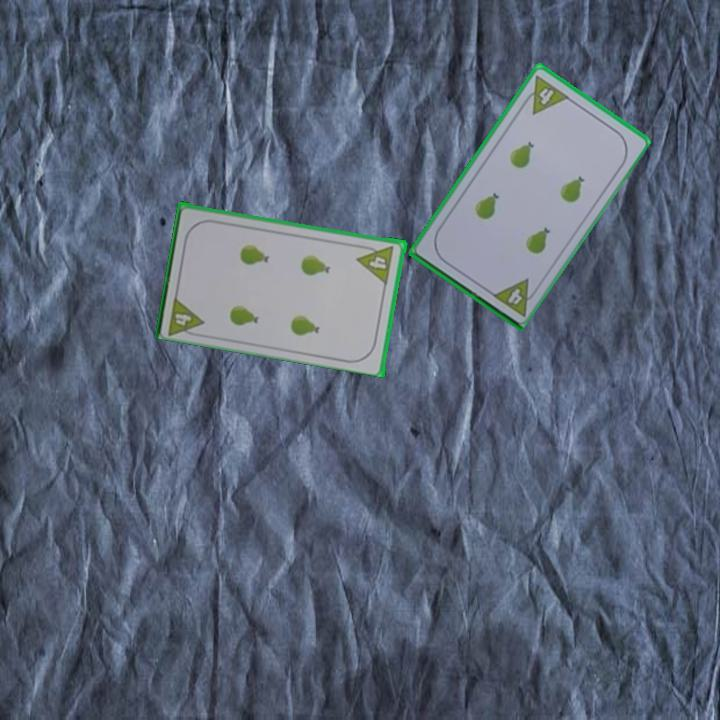4p: (518, 72, 572, 117), (488, 275, 542, 319), (164, 292, 207, 340), (355, 241, 397, 286)
